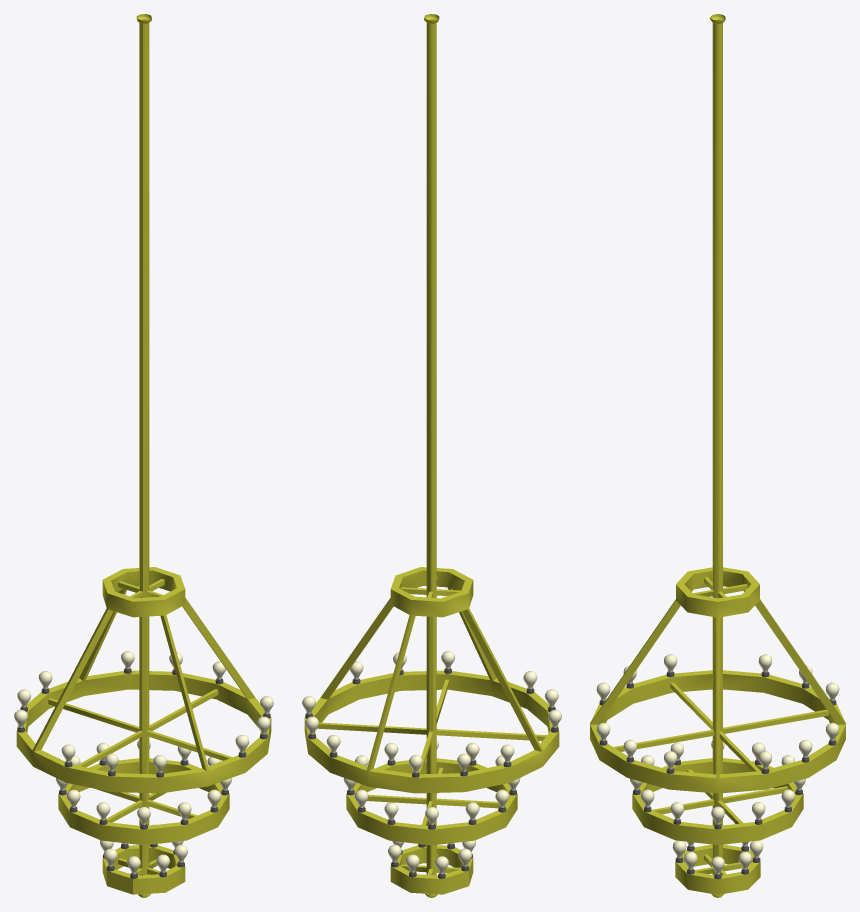
Rendered from lampara_techo_low.fbx.
3 views of the same model, side by side, from view 1: azimuth 30°, elevation 25°; view 2: azimuth 150°, elevation 25°; view 3: azimuth 270°, elevation 25° (orthographic).
Parts seen in each view (by area): view 1: lampara_techo_low; view 2: lampara_techo_low; view 3: lampara_techo_low.
Boxes of the visible parts, left/top/right/bottom form: lampara_techo_low: left=14, top=14, right=273, bottom=897; lampara_techo_low: left=302, top=14, right=561, bottom=897; lampara_techo_low: left=590, top=14, right=845, bottom=897.
Bounding box in the file's own units: 209 × 794 × 209.
